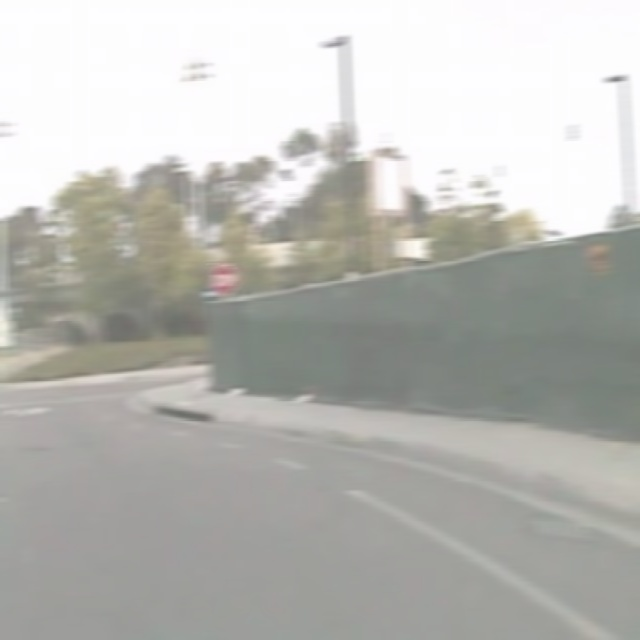stop: (211, 262, 237, 298)
